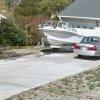Boat: (33, 14, 92, 48)
